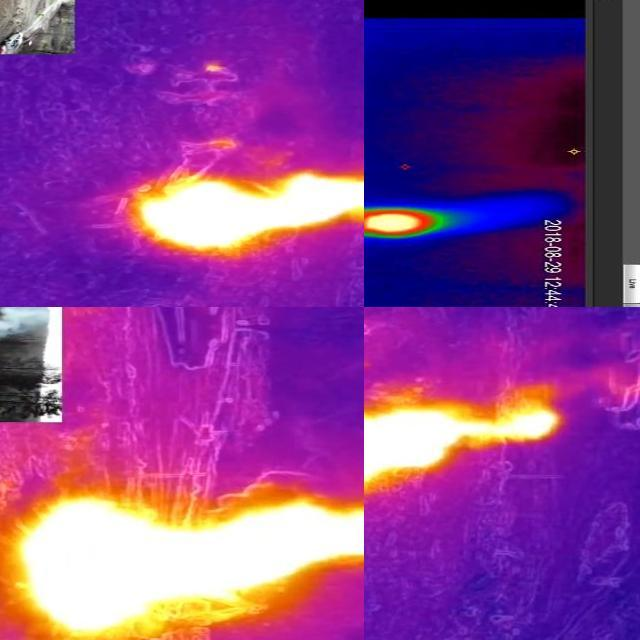fire: (16, 497, 365, 634), (134, 167, 365, 256), (365, 403, 560, 488), (365, 208, 456, 242)
